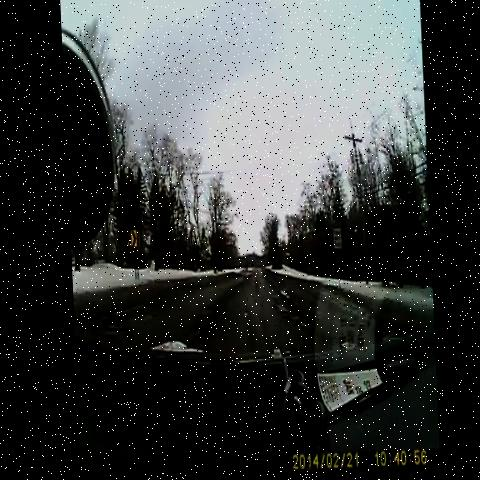pothole: (195, 296, 220, 325), (178, 327, 205, 351)
